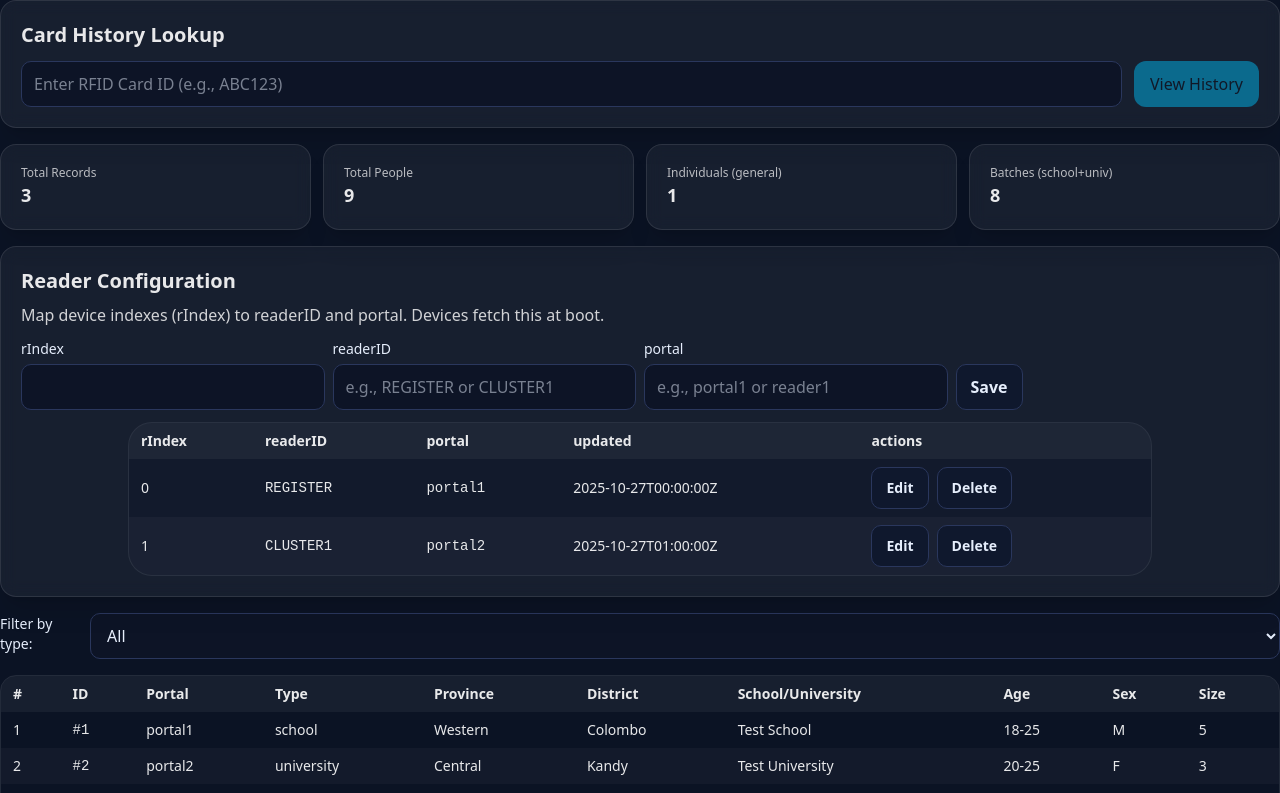
Test: AdminPortal › Reader Configuration Management › should handle delete configuration errors
Expected: the heading "Reader Configuration" is shown, left=21, top=267, right=236, bottom=294
Click the button "Delete" in the row of "REGISTER".
click(974, 488)  # box left=936, top=467, right=1012, bottom=509
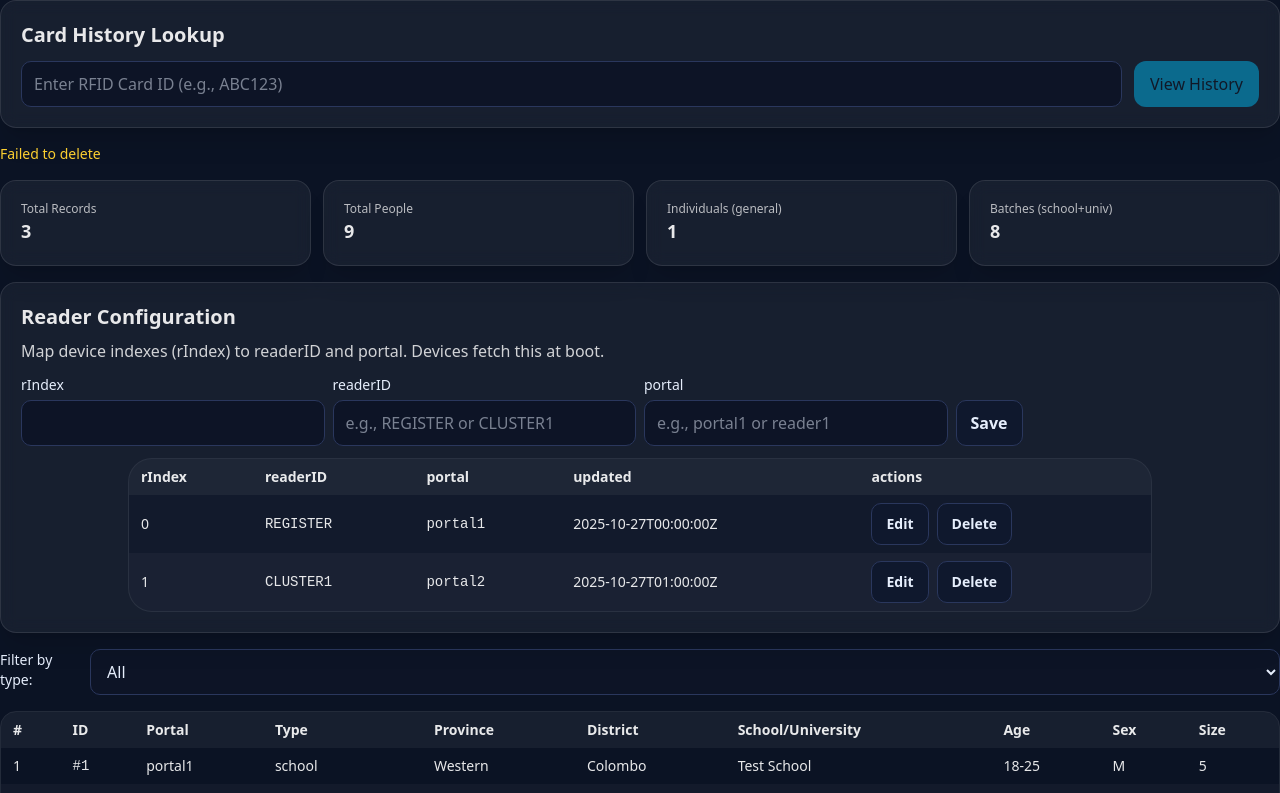
Now the text "Failed to delete" is shown, box left=0, top=144, right=101, bottom=163
